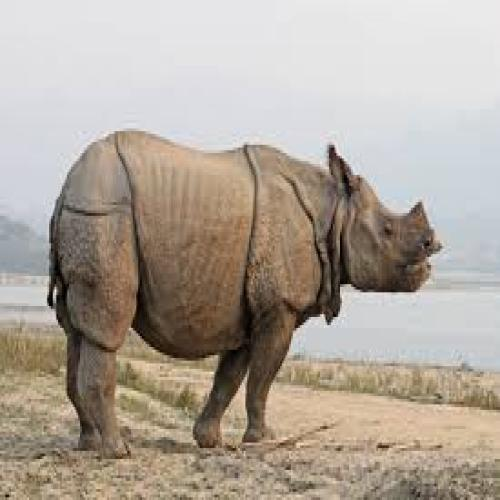rhino-endangered: (55, 139, 443, 423)
